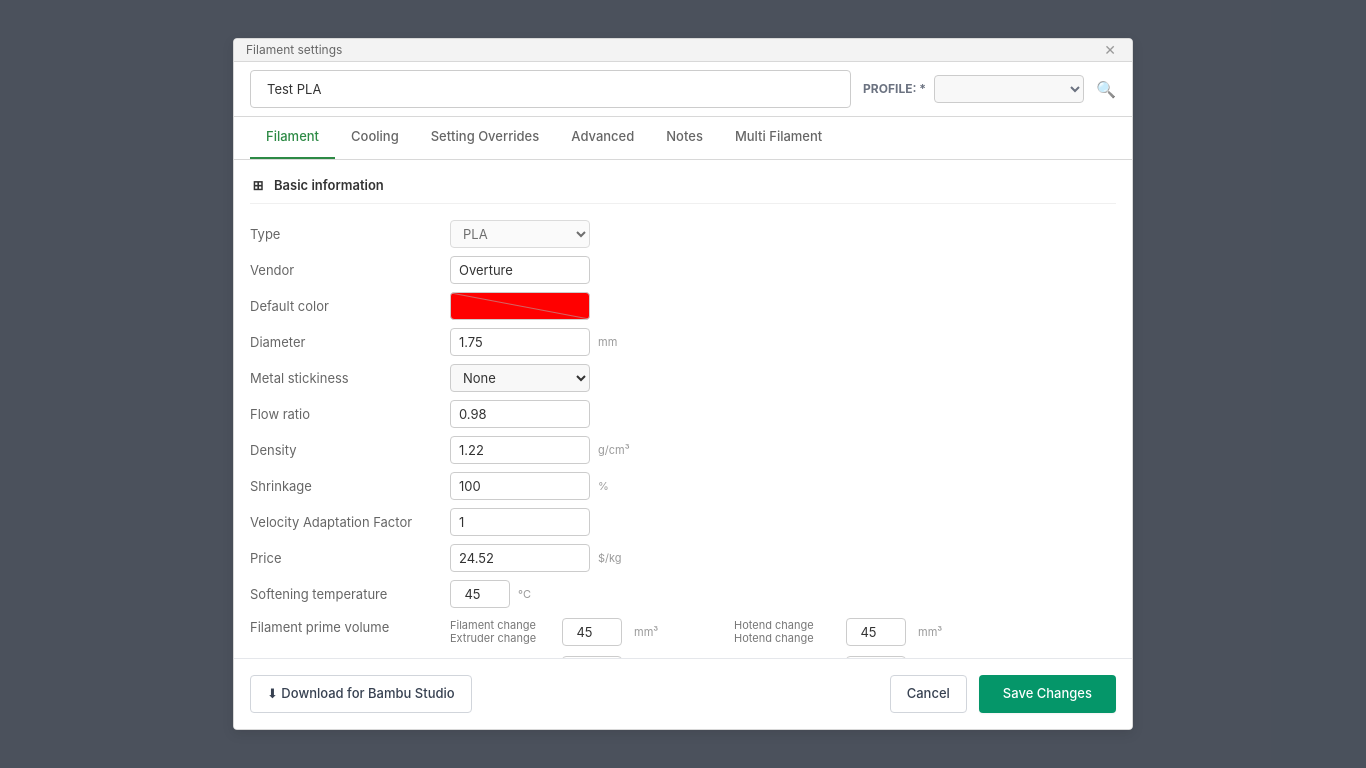
Test: EditorModal — filament type › Cooling tab shows part and auxiliary fan sections with threshold fields
What coordinates should you click on to do the following:
click the text with class "tab" showing "Cooling"
I would click on:
 (375, 136)
Its box is 351,128 -> 399,144.
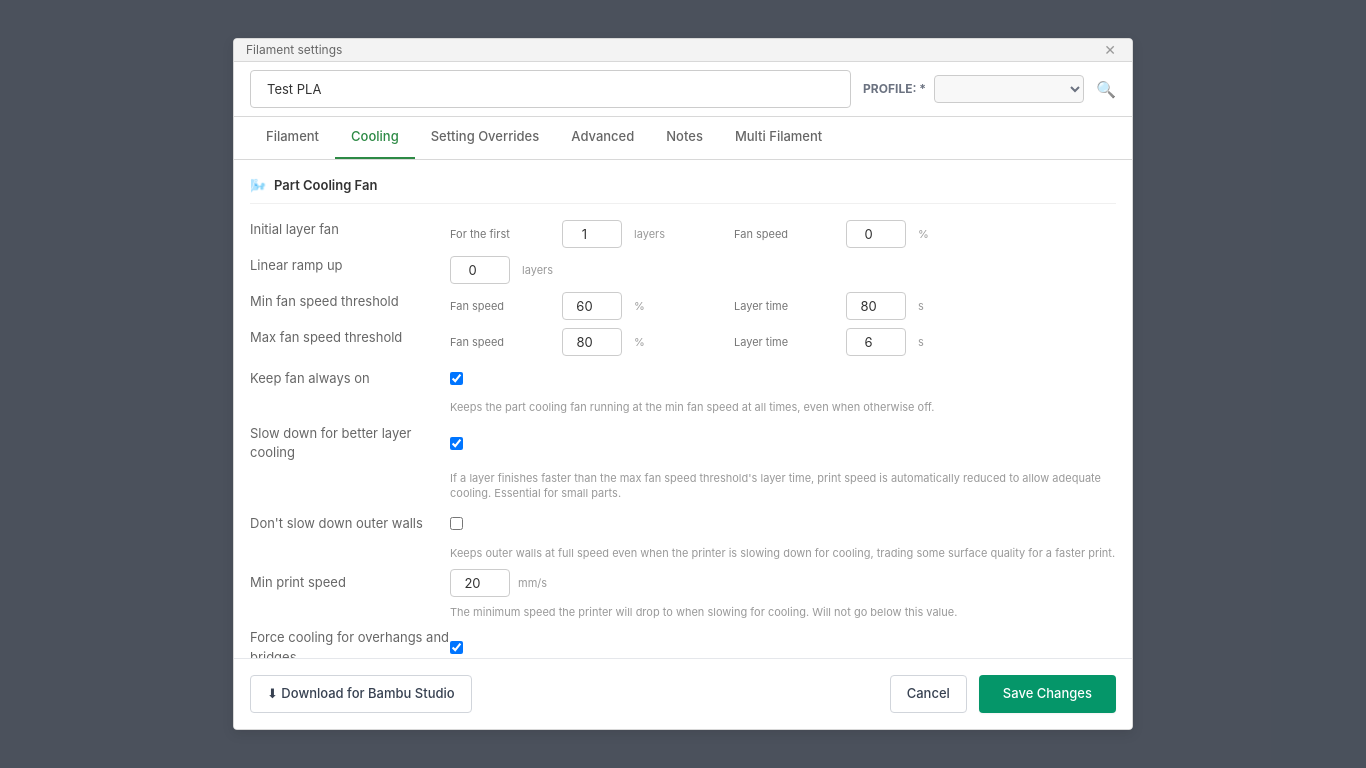
Now the text "Part Cooling Fan" is shown, box 274,177 -> 377,193
Now the text "Initial layer fan" is shown, box 250,221 -> 339,237
Now the text "Linear ramp up" is shown, box 250,257 -> 343,273
